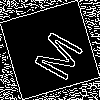M: (24, 24, 85, 83)
